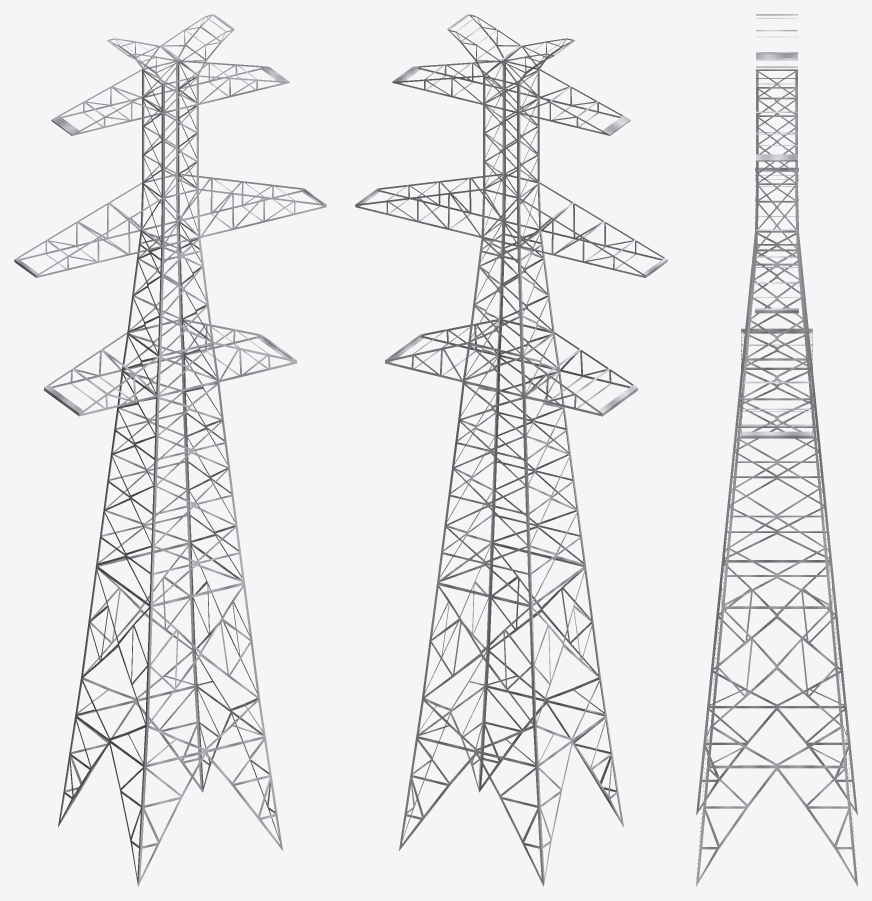
The picture shows the model from 3 angles, left to right: view 1: azimuth 30°, elevation 25°; view 2: azimuth 150°, elevation 25°; view 3: azimuth 270°, elevation 25°; orthographic projection.
Parts seen in each view (by area): view 1: Lo-B高压电电线杆_01; view 2: Lo-B高压电电线杆_01; view 3: Lo-B高压电电线杆_01.
Boxes of the visible parts, x1,y1,x2,y2 form: Lo-B高压电电线杆_01: [14, 14, 326, 886]; Lo-B高压电电线杆_01: [355, 14, 667, 886]; Lo-B高压电电线杆_01: [696, 14, 857, 886].
Size of the model in its own units: 11.24 by 29.79 by 5.39.
1 material, 1 textured.
